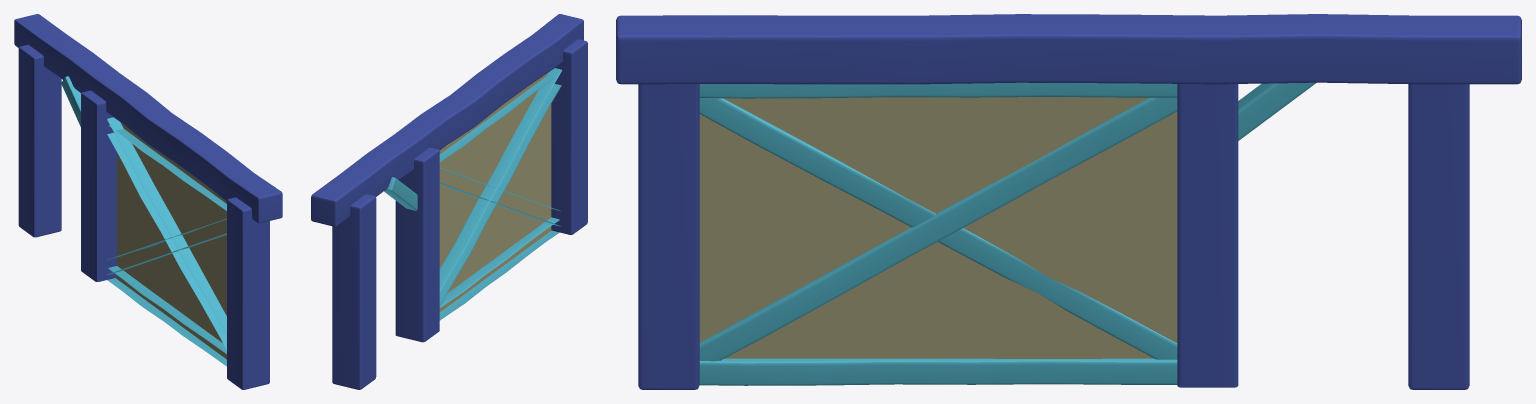
Rendered from SM_Hous1Side_1Floor_R.fbx.
3 renders of one model, left to right at view 1: azimuth 30°, elevation 25°; view 2: azimuth 150°, elevation 25°; view 3: azimuth 270°, elevation 25°, orthographic. The views are drawn at different scales.
Parts seen in each view (by area): view 1: SM_Hous1Side_1Floor; view 2: SM_Hous1Side_1Floor; view 3: SM_Hous1Side_1Floor.
Part boxes in pixels (<box>): SM_Hous1Side_1Floor: <box>14,14,282,389</box>; SM_Hous1Side_1Floor: <box>311,14,587,389</box>; SM_Hous1Side_1Floor: <box>616,14,1521,389</box>.
Bounding box in the file's own units: 0.5547 × 2.94 × 6.66.
